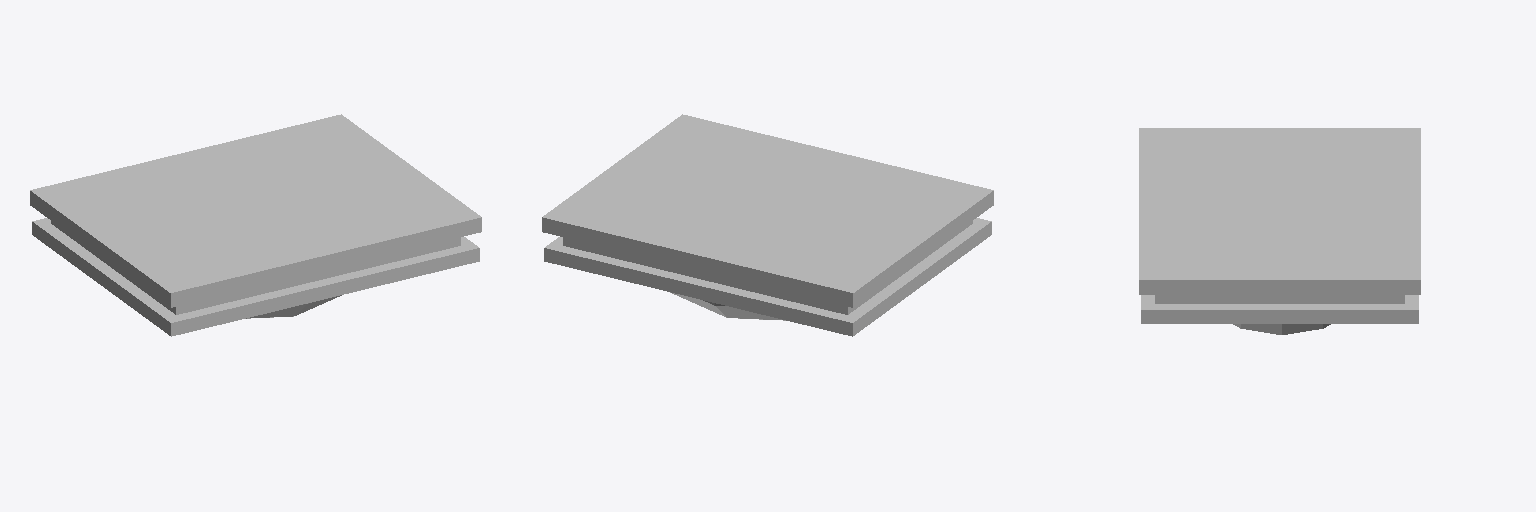
File: plateforme1.obj
The picture shows the model from 3 angles: view 1: azimuth 30°, elevation 25°; view 2: azimuth 150°, elevation 25°; view 3: azimuth 270°, elevation 25°; orthographic projection.
Bounding box in the file's own units: 0.8411 × 0.2694 × 0.6582.